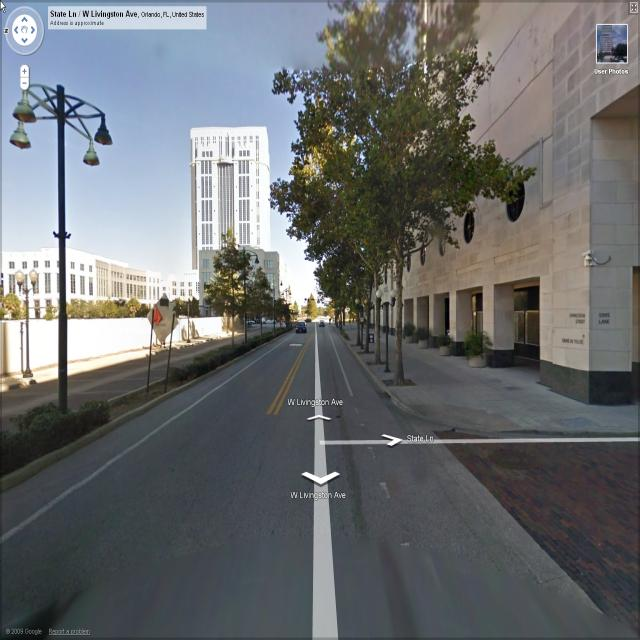b_1: (2, 257, 196, 314)
b_2: (358, 0, 632, 422), (7, 242, 287, 334), (184, 110, 272, 338)
